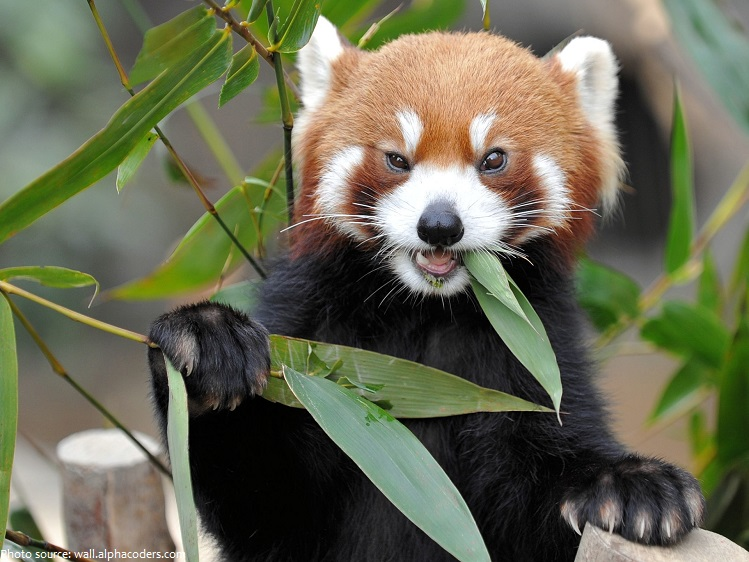red_panda: (145, 28, 702, 558)
